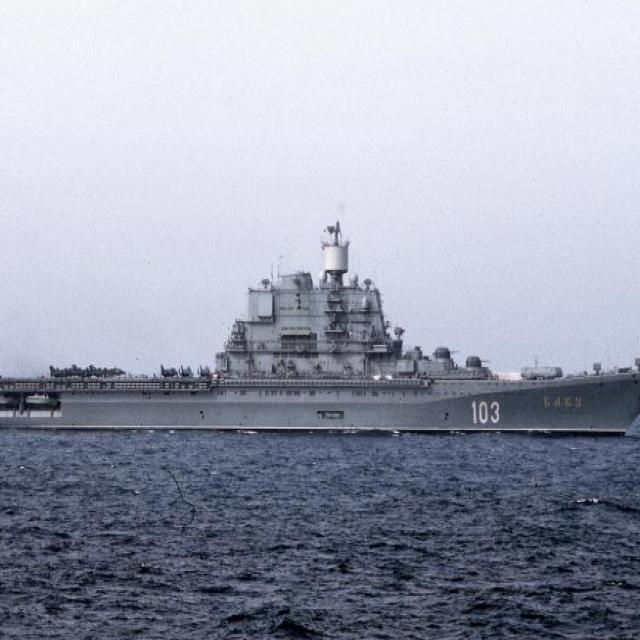Portanaves: (1, 220, 640, 443)
